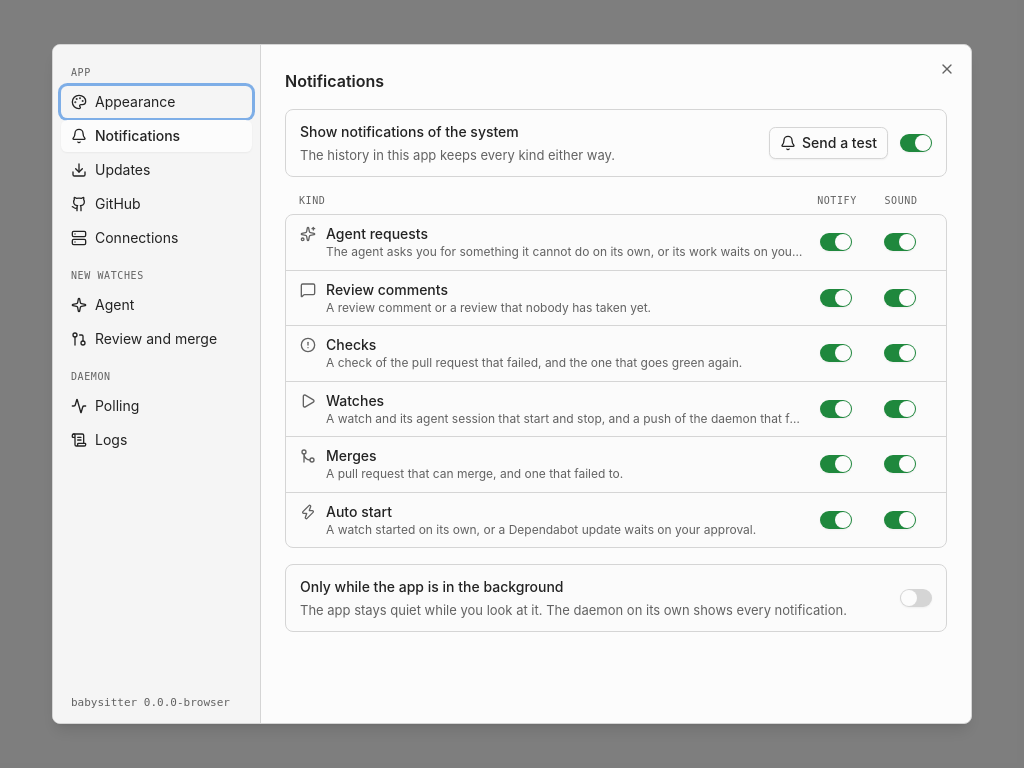
Scenario: a save the daemon refuses shows what the daemon answered
Click the switch named "Notify: Merges" at (836,464), box top-left (820, 455), bottom-right (852, 473)
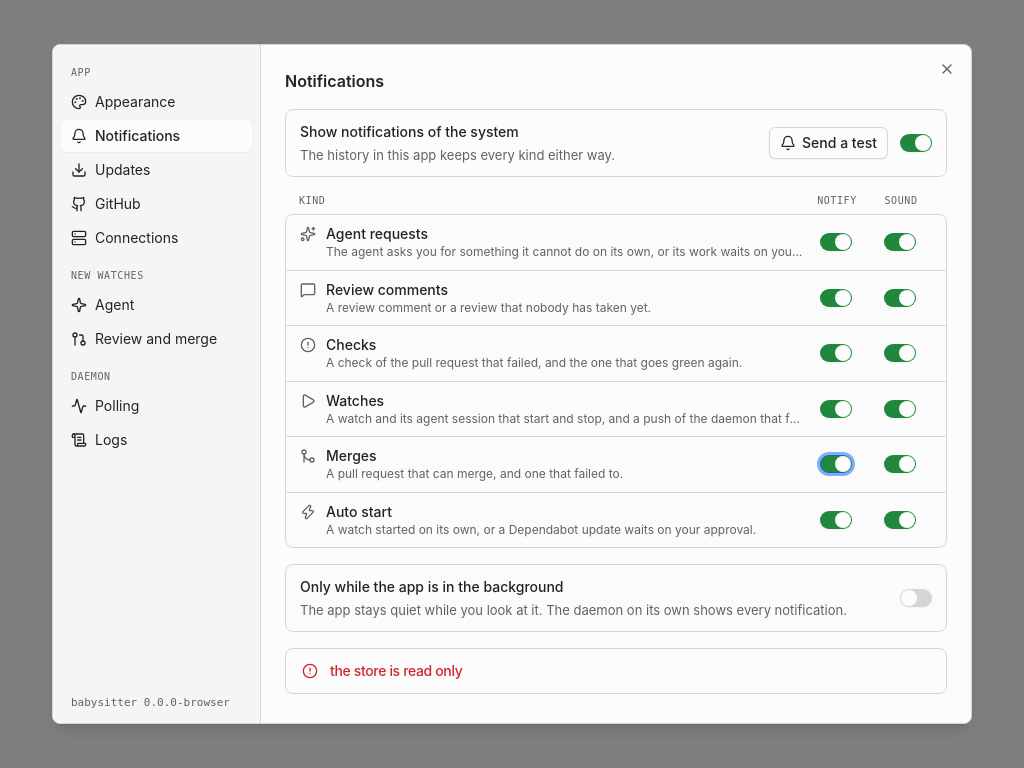
Now the text "the store is read only" is shown, box top-left (330, 662), bottom-right (462, 679)
